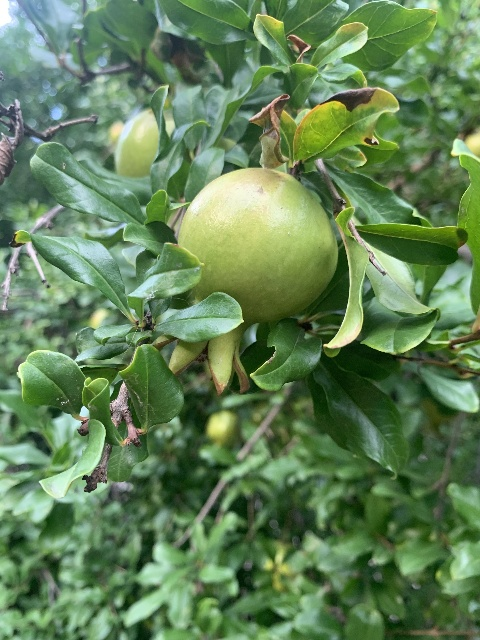mid-growth: (156, 167, 339, 397)
